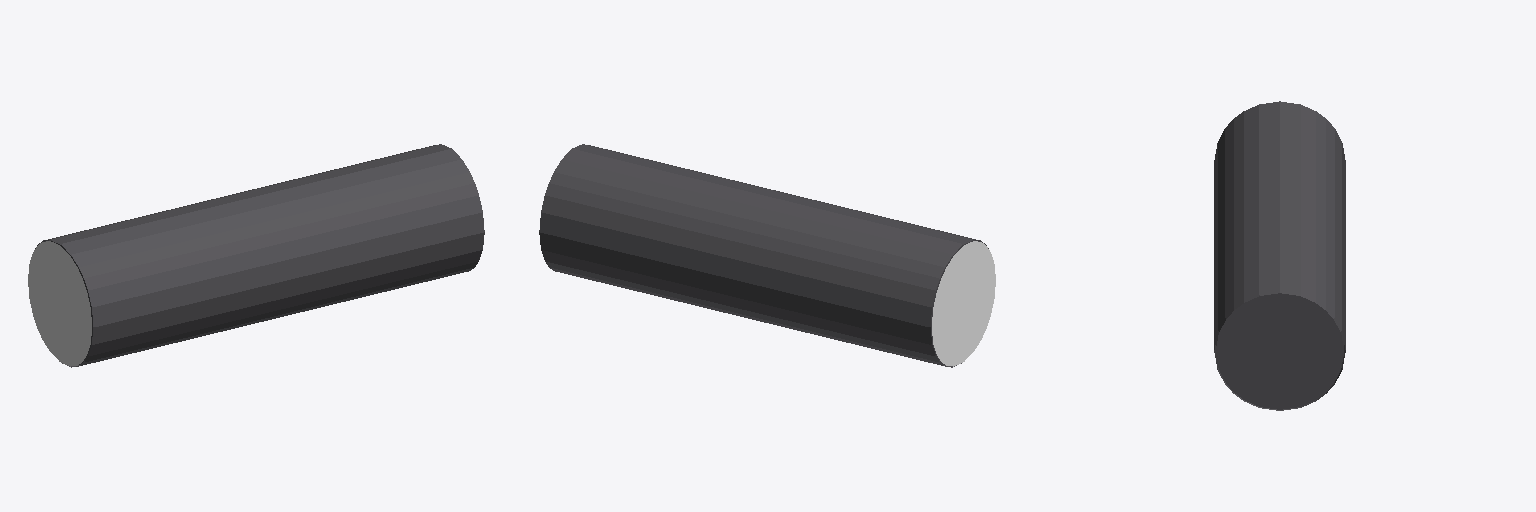
File: telescope.obj
3 renders of one model, left to right at view 1: azimuth 30°, elevation 25°; view 2: azimuth 150°, elevation 25°; view 3: azimuth 270°, elevation 25°, orthographic.
Parts seen in each view (by area): view 1: Telescope4, Telescope2, Telescope6, Telescope5; view 2: Telescope3, Telescope2, Telescope6, Telescope5; view 3: Telescope2, Telescope1, Telescope3, Telescope4.
Boxes of the visible parts, box(x1,y1,x2,y2) form: Telescope4: box(85, 183, 484, 361); Telescope2: box(39, 144, 474, 277); Telescope6: box(28, 241, 91, 366); Telescope5: box(62, 267, 474, 367); Telescope3: box(539, 183, 938, 361); Telescope2: box(549, 144, 984, 277); Telescope6: box(932, 241, 995, 366); Telescope5: box(549, 267, 961, 367); Telescope2: box(1234, 101, 1325, 308); Telescope1: box(1216, 292, 1343, 409); Telescope3: box(1326, 119, 1345, 393); Telescope4: box(1214, 119, 1233, 393).
Bounding box in the file's own units: 7.02 × 2.04 × 2.04.